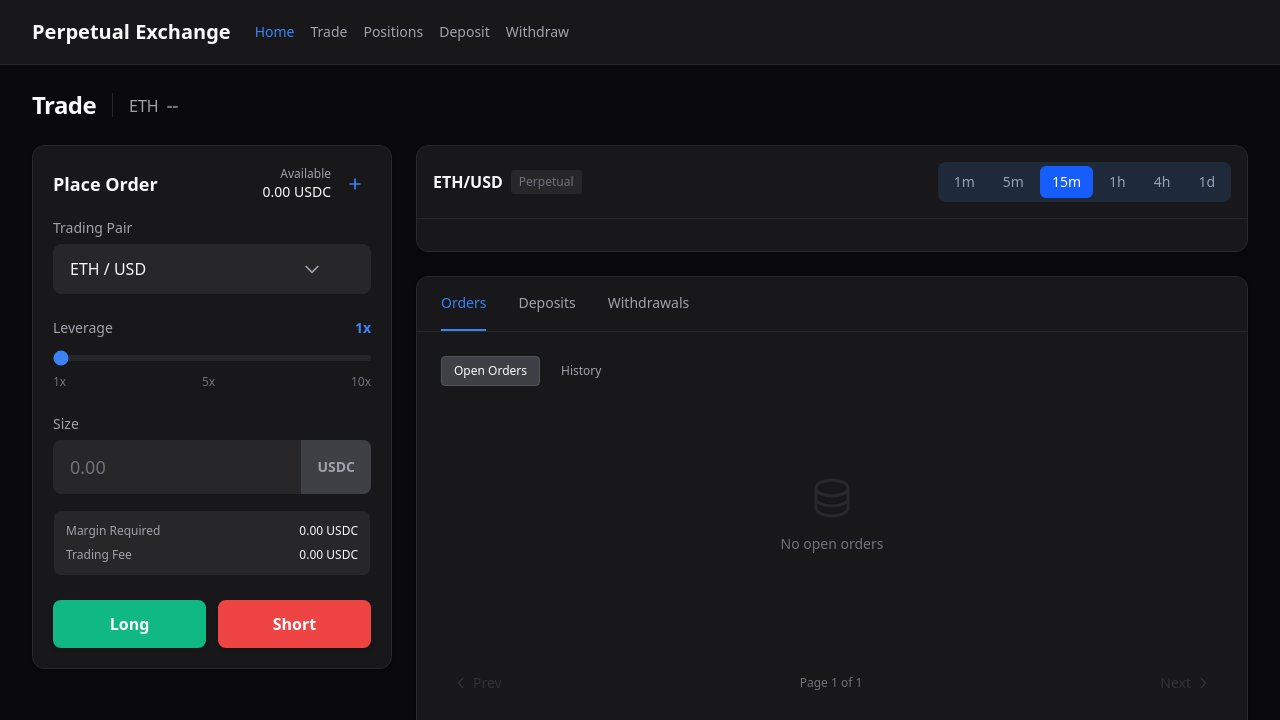
Test case: TradePage › when user is connected › should update margin required when leverage changes
The image size is (1280, 720).
Type "100" into the number field labelled "Size" at (212, 467), box [53,440,371,494]
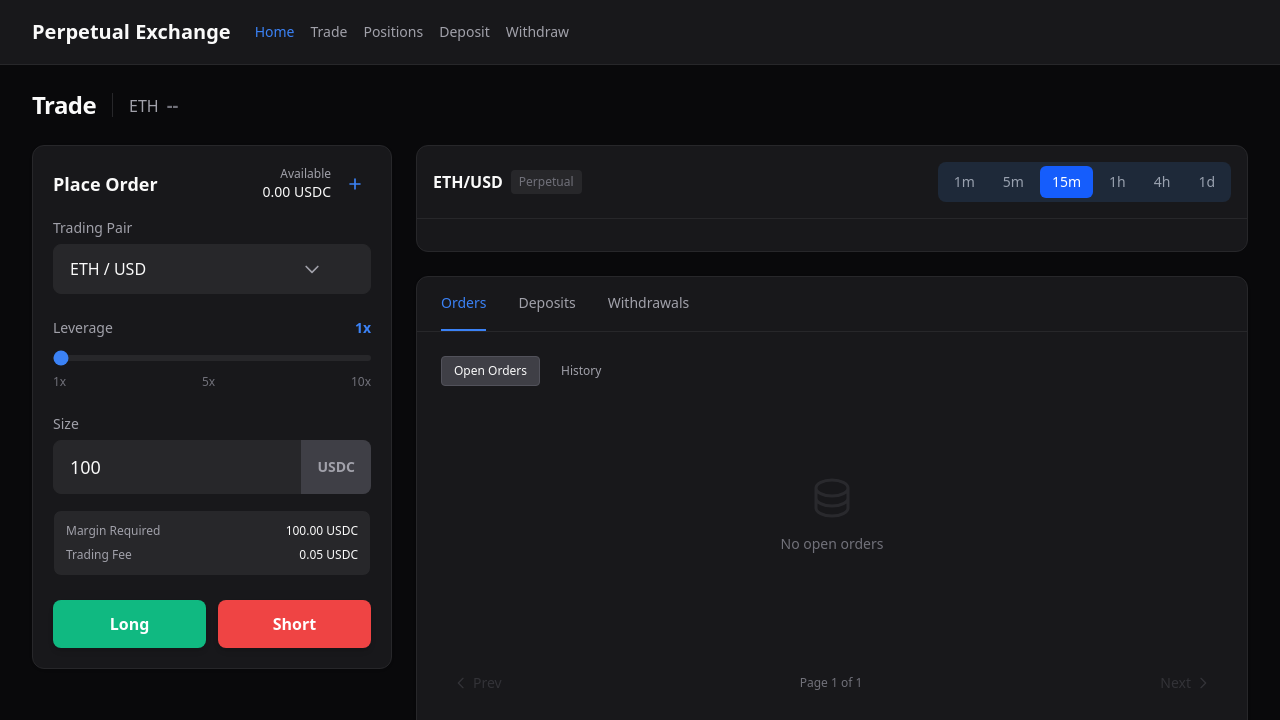
Set the slider labelled "Leverage" to "5" at (195, 358), box [53,355,371,361]
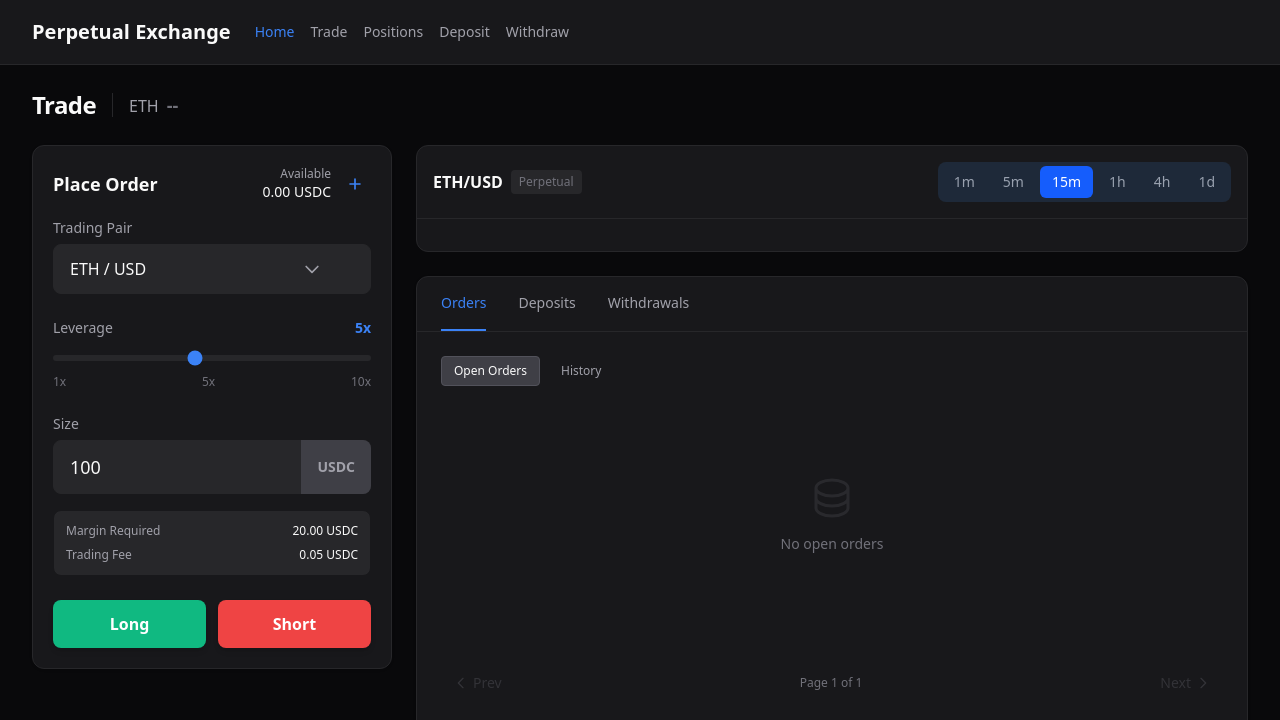
Expected: the text "20.00 USDC" is shown, [292,523,358,539]
